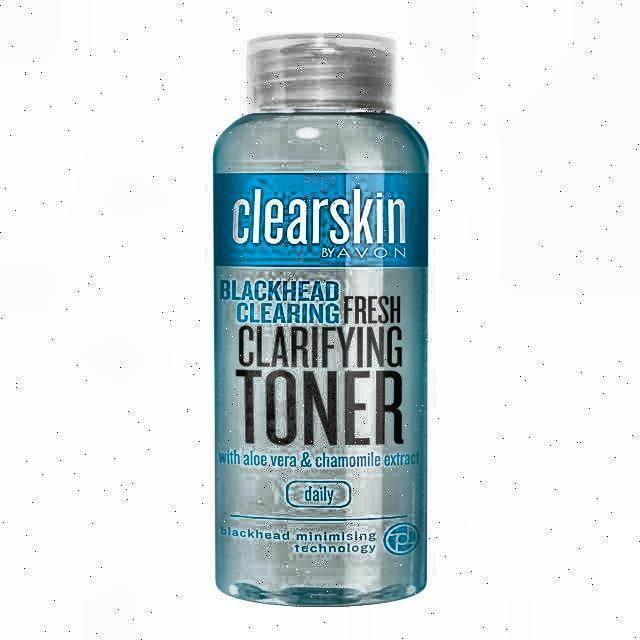plastic: (211, 29, 432, 613)
